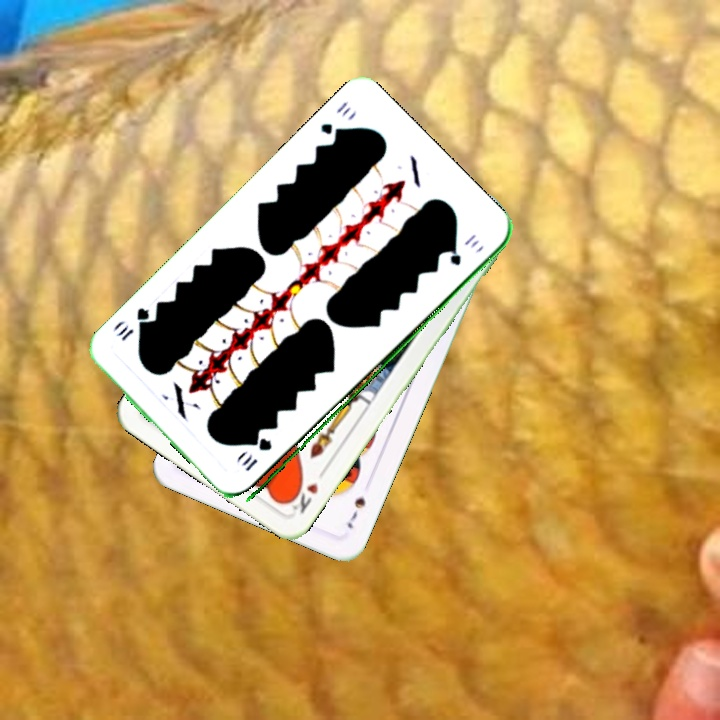G10: (317, 97, 353, 143), (237, 436, 275, 474)
HK: (283, 476, 321, 517)
S7: (343, 493, 369, 532)
